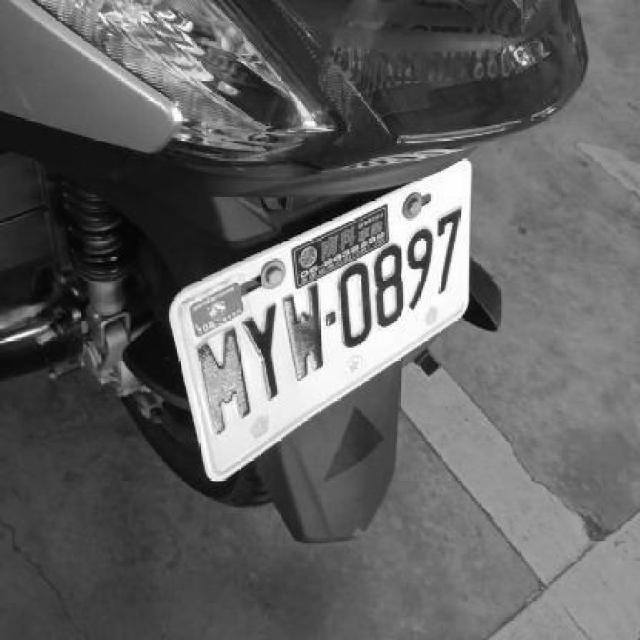-: (326, 311, 339, 326)
0: (335, 265, 374, 352)
7: (437, 209, 463, 300)
8: (371, 248, 406, 332)
9: (403, 228, 434, 317)
M: (189, 321, 253, 439)
W: (277, 280, 329, 384)
Y: (238, 300, 281, 397)
